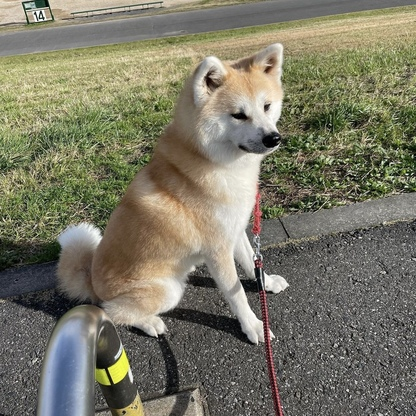akita: (46, 37, 300, 351)
